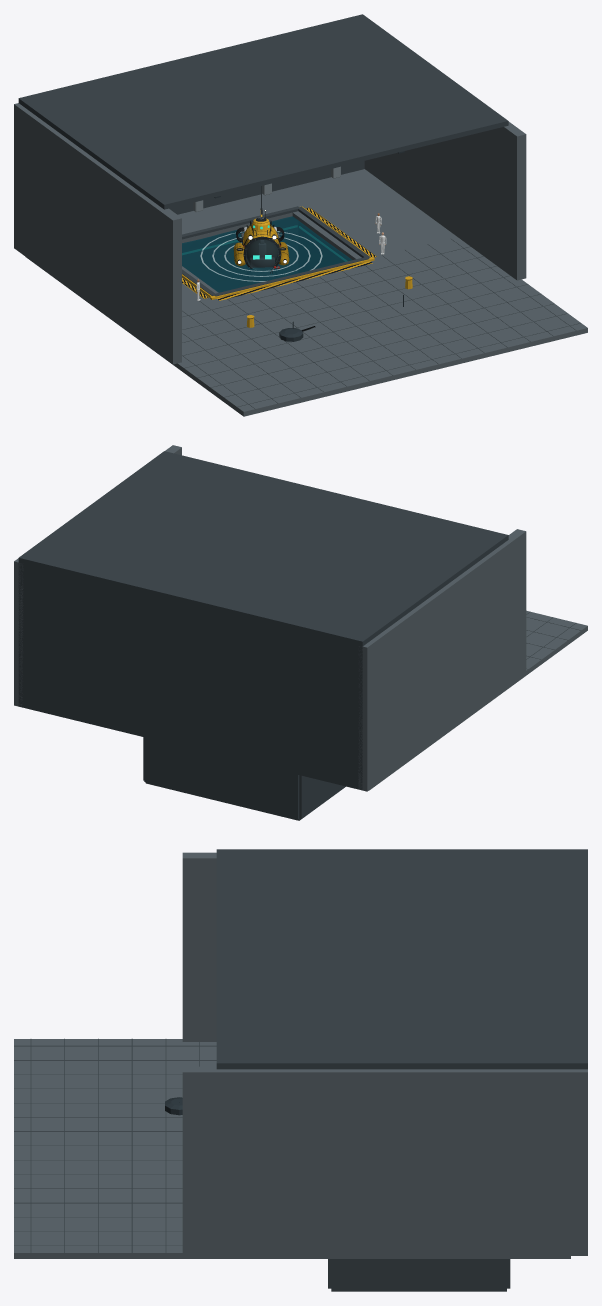
File: moonpool.glb
The picture shows the model from 3 angles, top to bottom: view 1: azimuth 30°, elevation 25°; view 2: azimuth 150°, elevation 25°; view 3: azimuth 270°, elevation 25°; orthographic projection. The views are drawn at different scales.
Parts seen in each view (by area): view 1: mp_backwall, mp_deck, moonpool_water, pool_rim, sub_hull, sub_dome_glass, sub_interior, sub_wake, mp_foreground; view 2: mp_backwall, mp_deck; view 3: mp_backwall, mp_deck.
Boxes of the visible parts, bbox=[...] form: mp_backwall: bbox=[14, 14, 526, 364]; mp_deck: bbox=[26, 169, 587, 416]; moonpool_water: bbox=[182, 216, 352, 292]; pool_rim: bbox=[182, 206, 376, 300]; sub_hull: bbox=[233, 208, 289, 268]; sub_dome_glass: bbox=[246, 240, 278, 270]; sub_interior: bbox=[246, 239, 278, 267]; sub_wake: bbox=[200, 231, 322, 281]; mp_foreground: bbox=[246, 276, 412, 341]; mp_backwall: bbox=[14, 445, 526, 791]; mp_deck: bbox=[143, 610, 587, 820]; mp_backwall: bbox=[182, 849, 587, 1255]; mp_deck: bbox=[14, 1038, 570, 1291].
Bounding box in the file's own units: 30.8 × 18.8 × 34.
34 materials, 5 textured.
